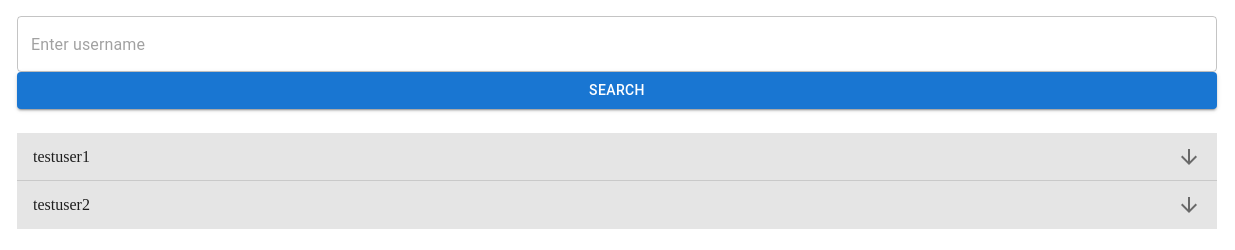
Test: HomePage › should display no users found message
The width and height of the screenshot is (1235, 250).
In the field with placeholder "Enter username": {"x": 617, "y": 44} [17,16,1217,72], type "nouser"
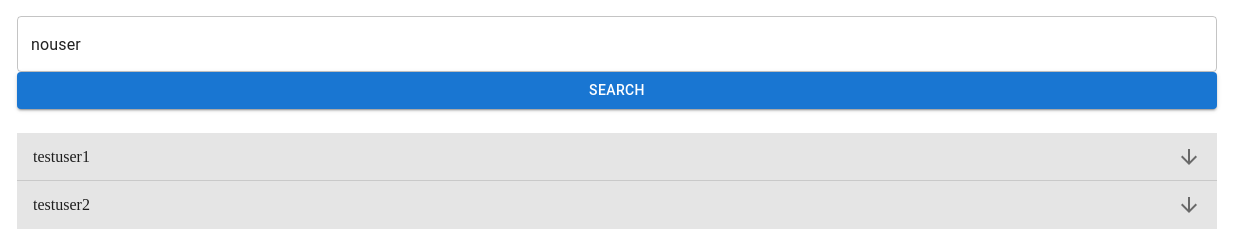
Click the button "Search": {"x": 617, "y": 90} [17,72,1217,108]
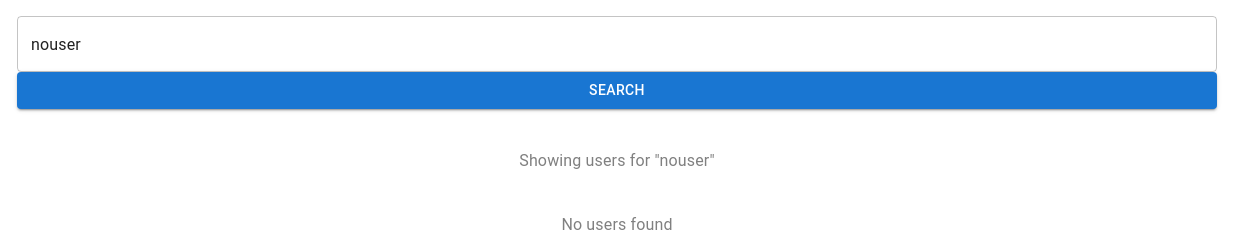
Check: the text "No users found" is shown, box [561,214,673,234]
